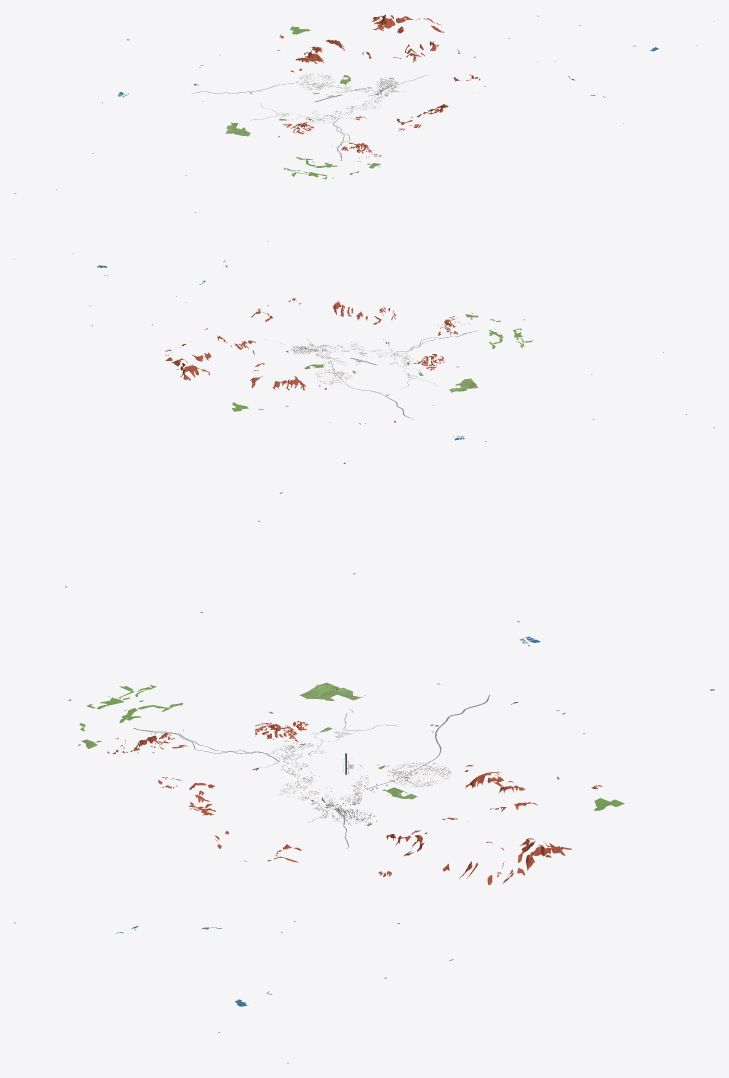
The model's file is land.glb.
3 views of the same model, one above another, from view 1: azimuth 30°, elevation 25°; view 2: azimuth 150°, elevation 25°; view 3: azimuth 270°, elevation 25° (orthographic). The views are drawn at different scales.
Visible parts, largest first — view 1: decal-area-rock, decal-area-green, buildings, buildings-1, decal-roads; view 2: decal-area-rock, decal-area-green, buildings, buildings-1; view 3: decal-area-rock, decal-area-green, buildings, buildings-1.
Boxes of the visible parts, x1,y1,x2,y2 form: decal-area-rock: (194, 14, 485, 148); decal-area-green: (225, 26, 393, 179); buildings: (250, 73, 381, 161); buildings-1: (318, 73, 398, 109); decal-roads: (192, 75, 428, 160); decal-area-rock: (165, 298, 450, 422); decal-area-green: (232, 312, 533, 411); buildings: (318, 316, 470, 394); buildings-1: (285, 341, 363, 378); decal-area-rock: (155, 702, 602, 884); decal-area-green: (78, 682, 624, 825); buildings: (107, 721, 451, 783); buildings-1: (275, 780, 444, 825).
Size of the model in its own units: 132671 by 2916 by 68763.
